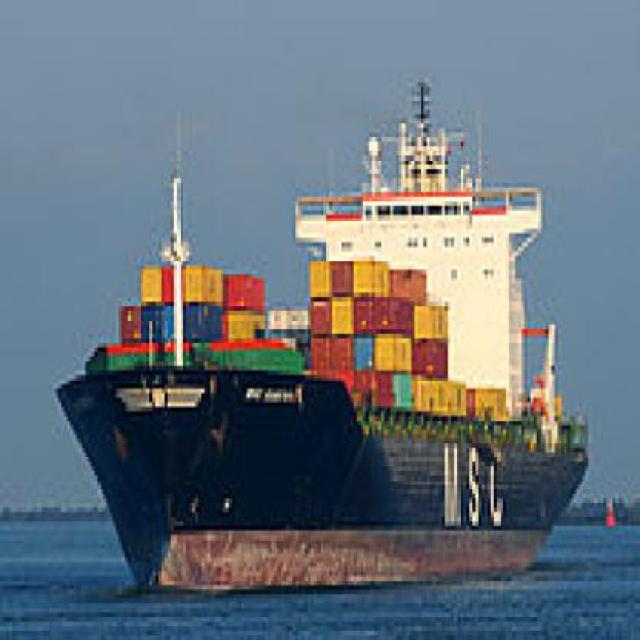container: (46, 70, 599, 610)
